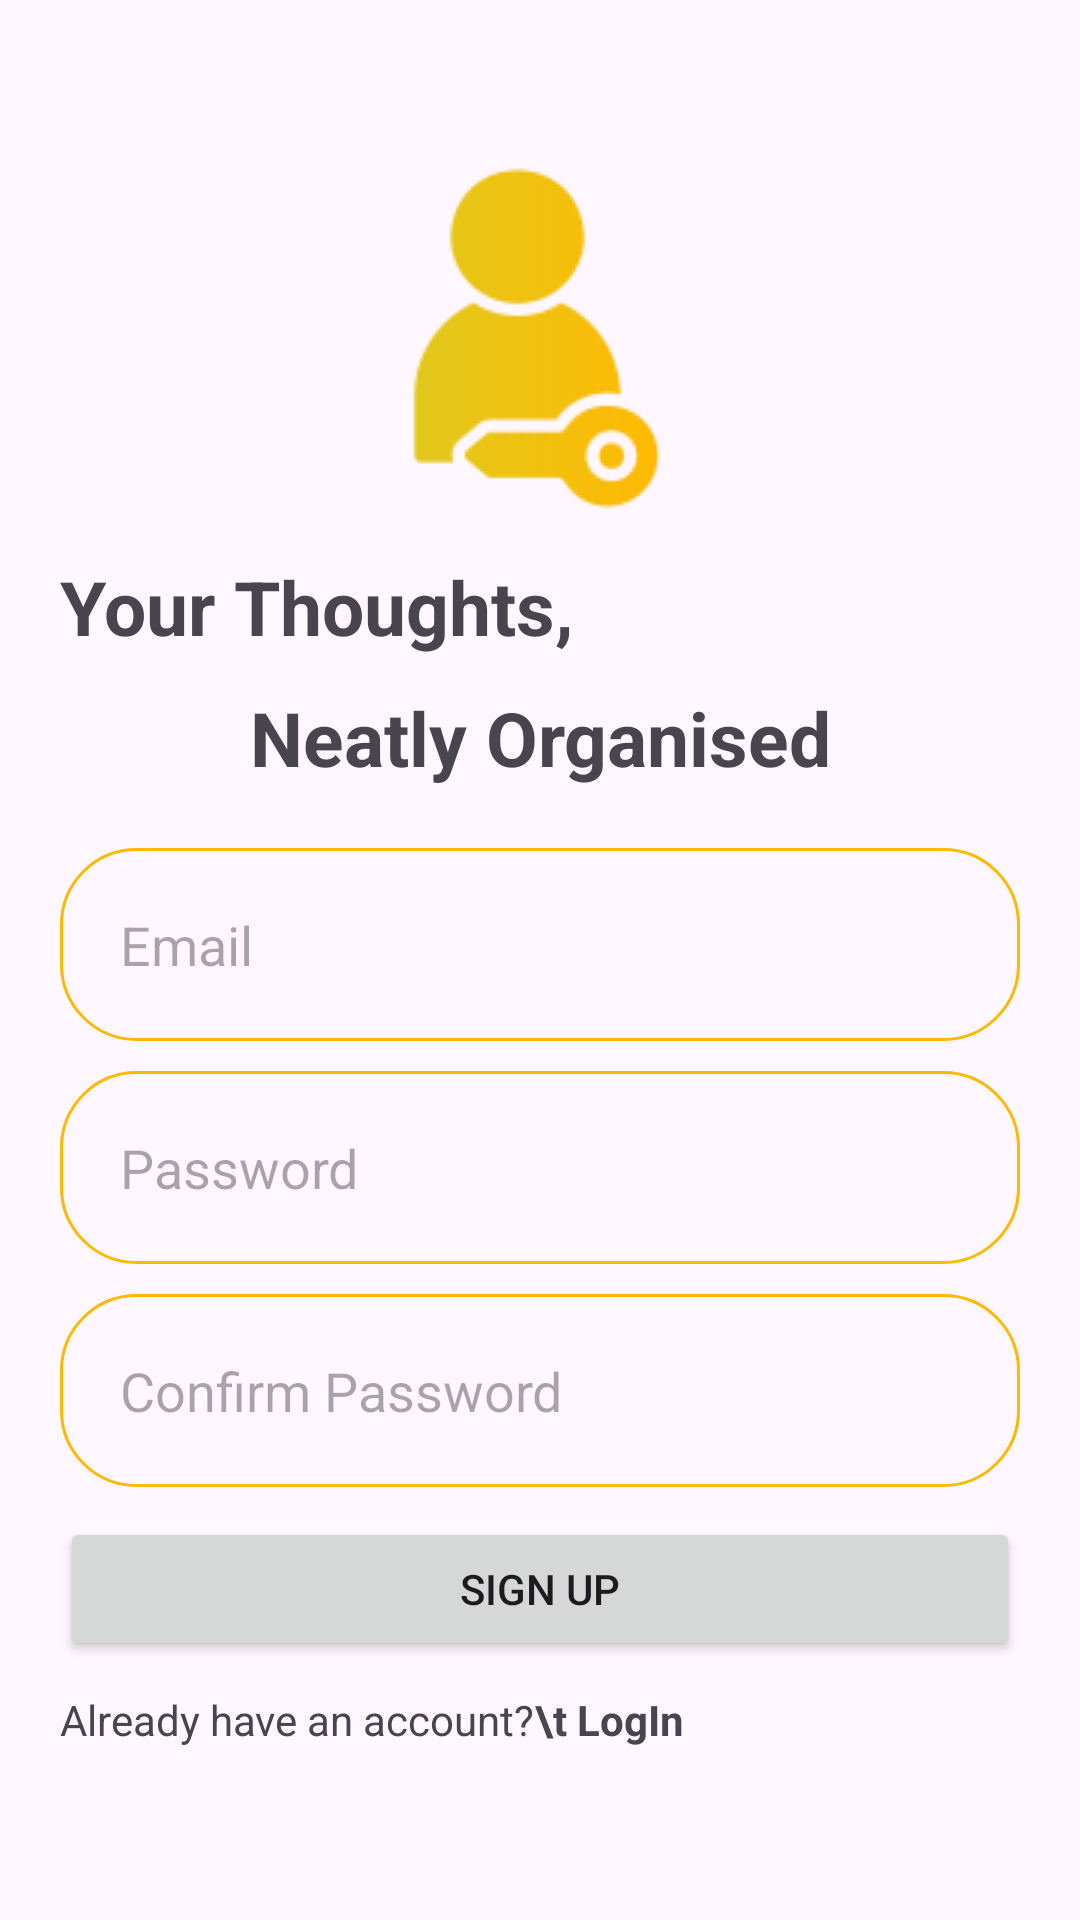

Where icons sit on this 1080x1920 app screen, as (x1, y1, x2, y2):
login: (413, 168, 660, 509)
